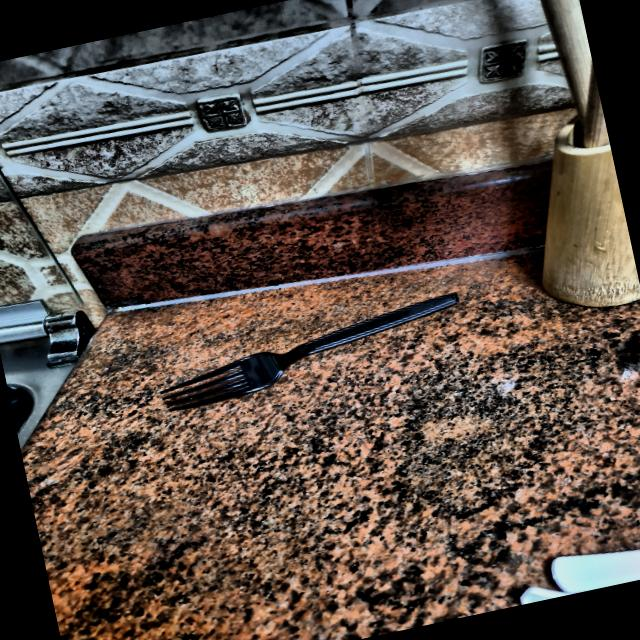plastic utensil: (154, 282, 480, 423)
